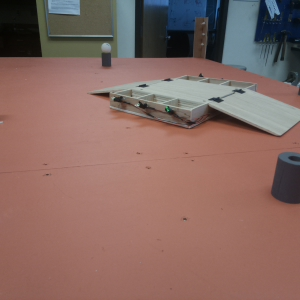obstacle: (270, 149, 300, 201), (99, 42, 114, 68)
side: (105, 95, 198, 132), (179, 74, 258, 88)
slope: (205, 88, 298, 137), (97, 76, 175, 90)
